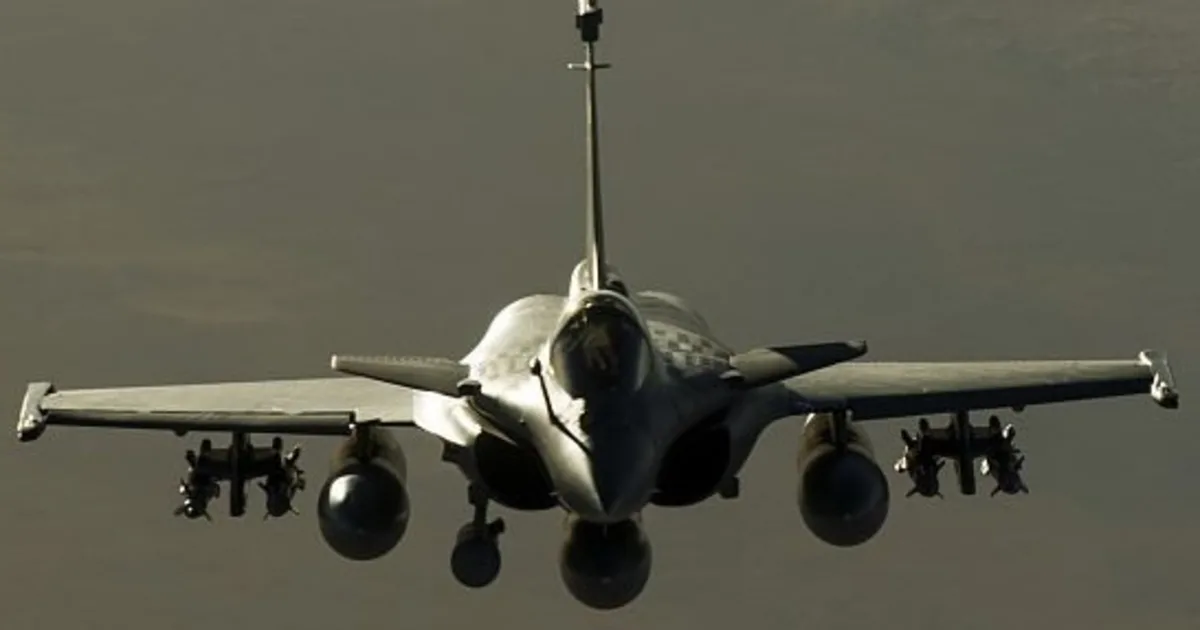Rafale: (11, 0, 1184, 613)
